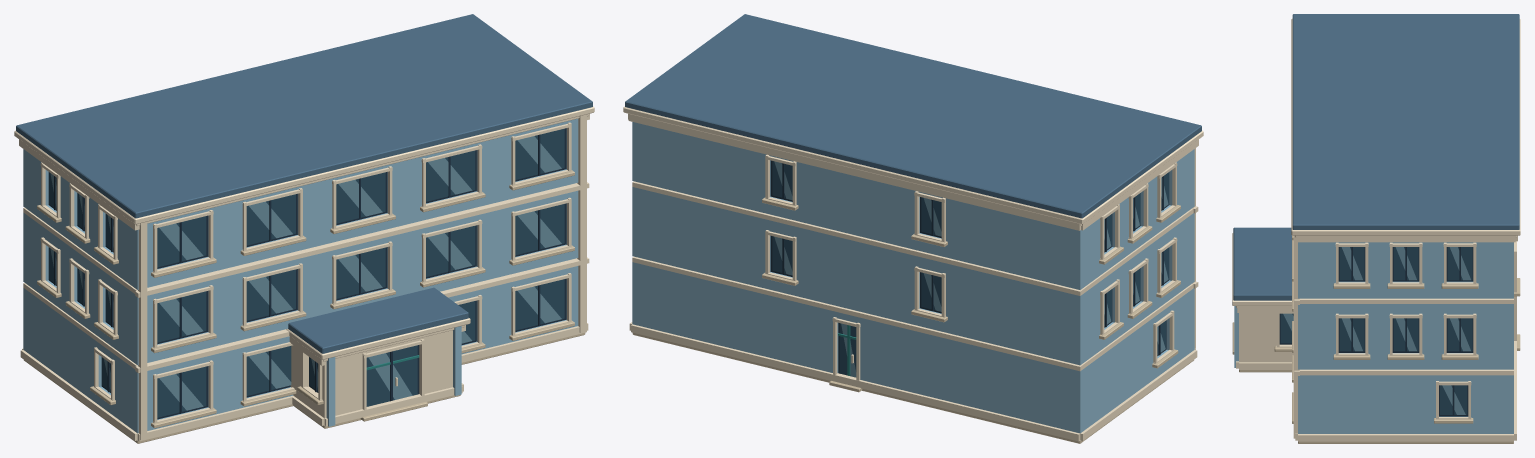
The model's file is long_city_office.glb.
3 renders of one model, left to right at view 1: azimuth 30°, elevation 25°; view 2: azimuth 150°, elevation 25°; view 3: azimuth 270°, elevation 25°, orthographic. The views are drawn at different scales.
Visible parts, largest first — view 1: LongCityOffice_StaticMesh; view 2: LongCityOffice_StaticMesh; view 3: LongCityOffice_StaticMesh.
Part boxes in pixels (bbox=[...]): LongCityOffice_StaticMesh: bbox=[14, 14, 594, 443]; LongCityOffice_StaticMesh: bbox=[623, 14, 1203, 443]; LongCityOffice_StaticMesh: bbox=[1232, 14, 1520, 443].
Size of the model in its own units: 19.52 by 9.51 by 11.22.
